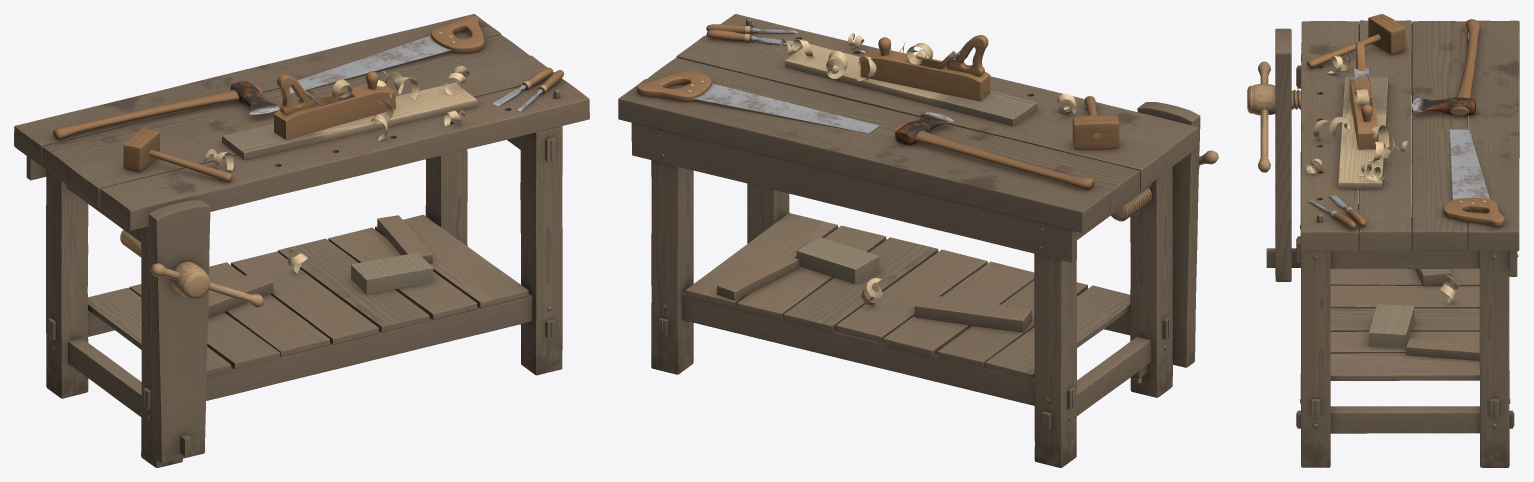
File: workbench.glb
3 renders of one model, left to right at view 1: azimuth 30°, elevation 25°; view 2: azimuth 150°, elevation 25°; view 3: azimuth 270°, elevation 25°, orthographic. The views are drawn at different scales.
Parts seen in each view (by area): view 1: WB_Bench, WB_Tools; view 2: WB_Bench, WB_Tools; view 3: WB_Bench, WB_Tools.
Part boxes in pixels (x1,y1,x2,y2): WB_Bench: (14,14,589,467); WB_Tools: (53,15,563,294); WB_Bench: (618,14,1218,467); WB_Tools: (636,24,1119,305); WB_Bench: (1247,20,1519,467); WB_Tools: (1306,14,1518,348).
Size of the model in its own units: 1.61 by 1.1 by 0.873.
2 materials, 2 textured.
